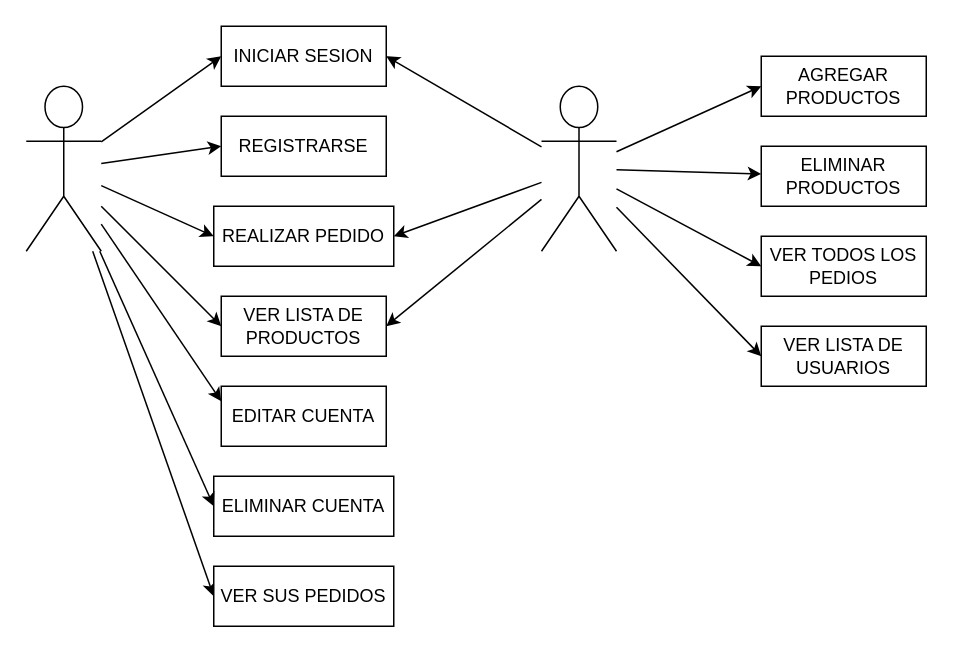
Some shapes in this 953 by 653 pixel diagram are drawn without their labels. Each missing label, with the centre of its shape:
"Cliente" belongs at point 63,168.
"Vendedor" belongs at point 578,168.
